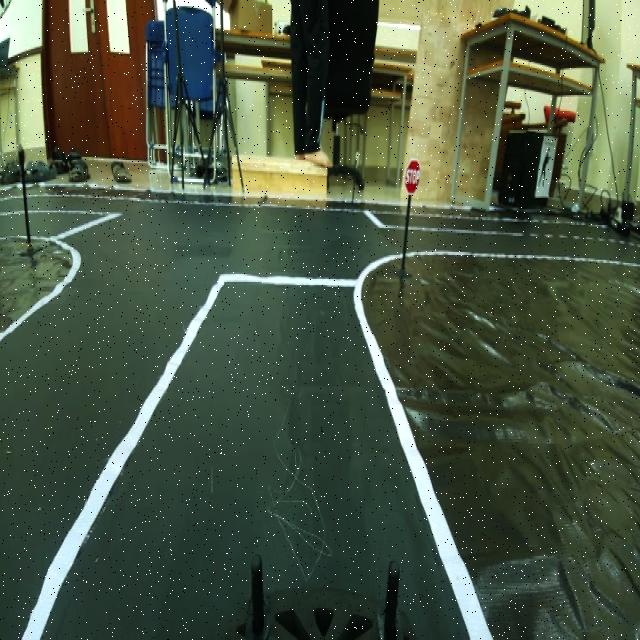stop: (400, 152, 421, 203)
